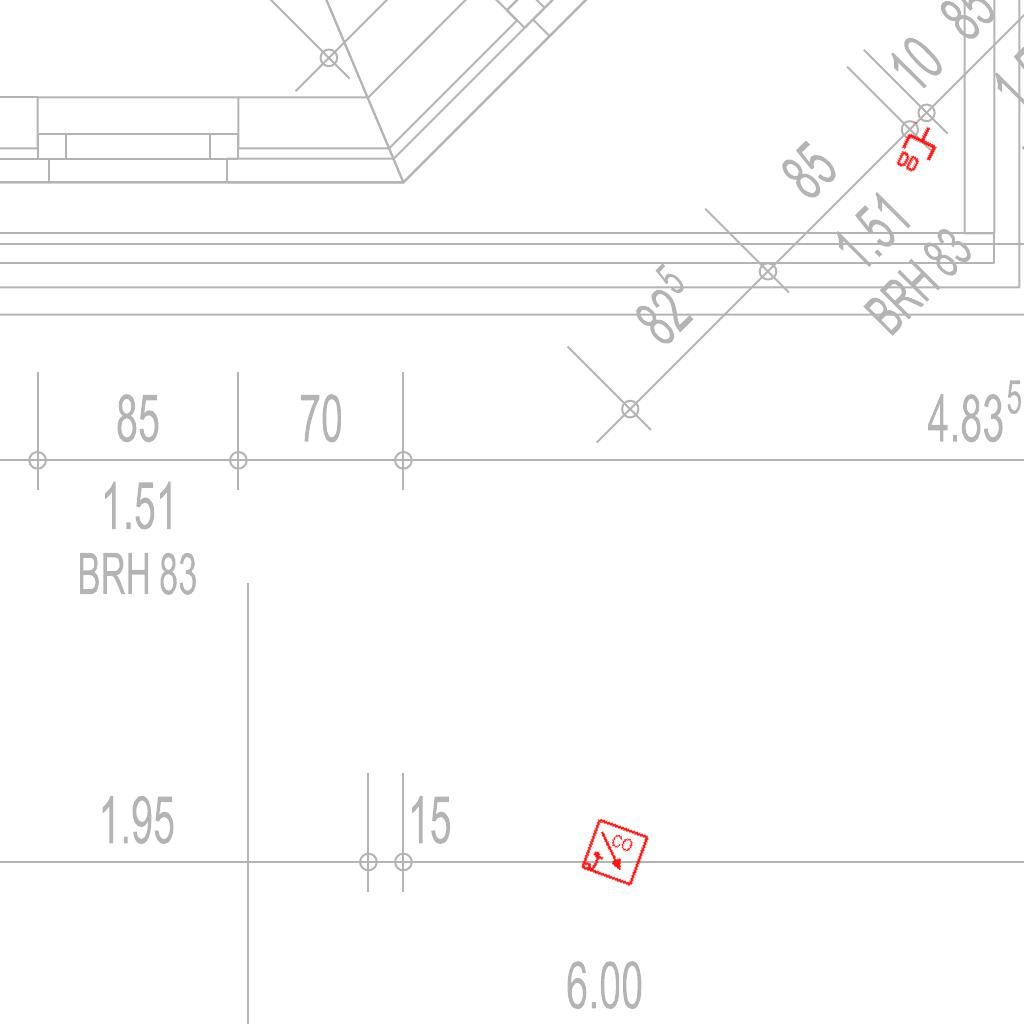Datenanschluss_zweifach: (892, 119, 946, 180)
ROA_Rauchmelder_optisch_mit_Signalgeber_(Sockelsirene): (579, 817, 651, 889)
